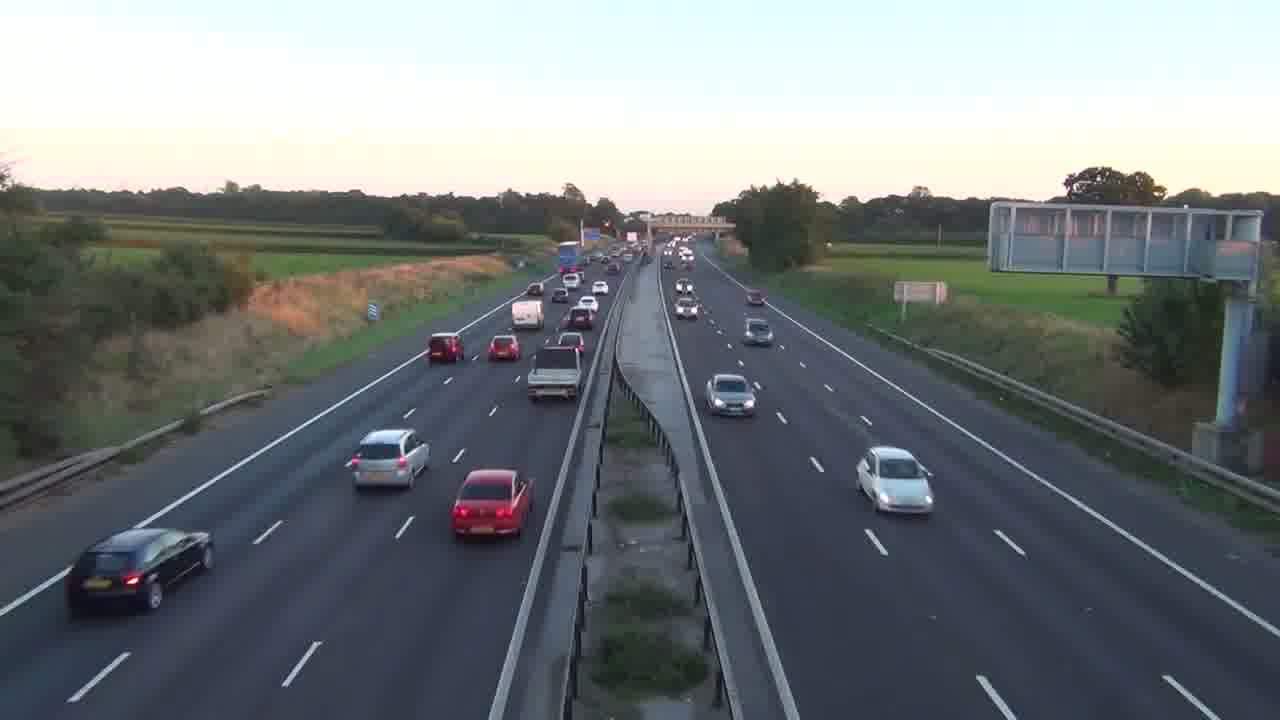car: (64, 524, 215, 616), (449, 466, 534, 540), (856, 445, 935, 516), (346, 428, 431, 490), (704, 372, 758, 418), (742, 315, 774, 347), (487, 333, 521, 362)
truck: (526, 344, 581, 401)
